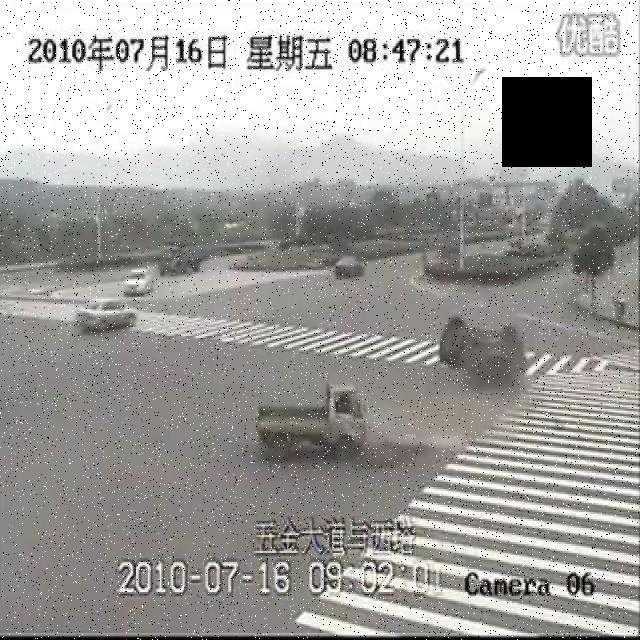accident: (435, 310, 530, 388)
